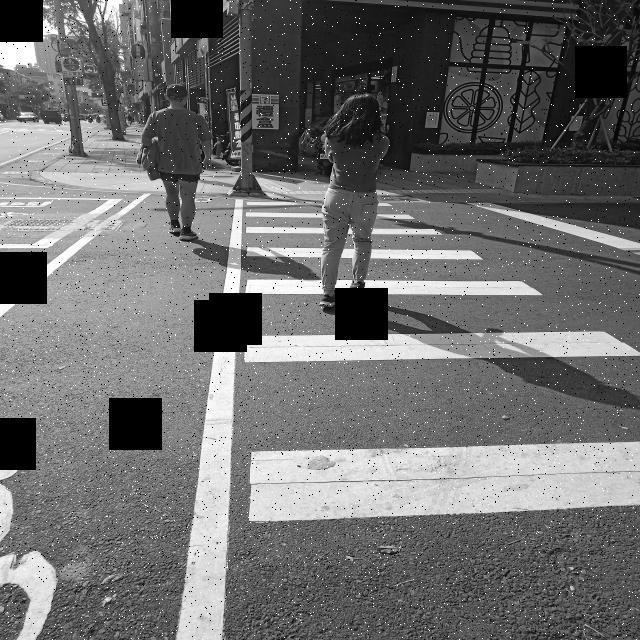person: (320, 92, 390, 308), (142, 84, 212, 241)
zebra crossing: (249, 200, 640, 521)
